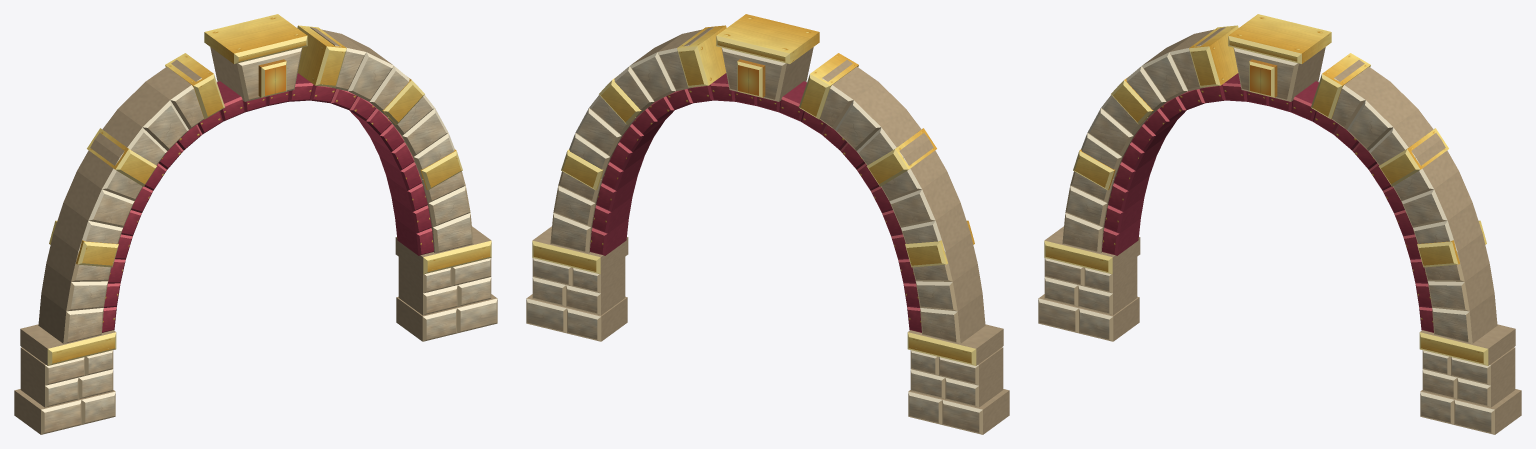
Rendered from space_arch.glb.
3 renders of one model, left to right at view 1: azimuth 30°, elevation 25°; view 2: azimuth 150°, elevation 25°; view 3: azimuth 330°, elevation 25°, orthographic.
Parts seen in each view (by area): view 1: arch_v3; view 2: arch_v3; view 3: arch_v3.
Boxes of the visible parts, x1,y1,x2,y2 form: arch_v3: [14, 14, 497, 434]; arch_v3: [526, 14, 1009, 434]; arch_v3: [1038, 14, 1521, 434].
Bounding box in the file's own units: 72 × 50.6 × 10.6.
1 material, 1 textured.
